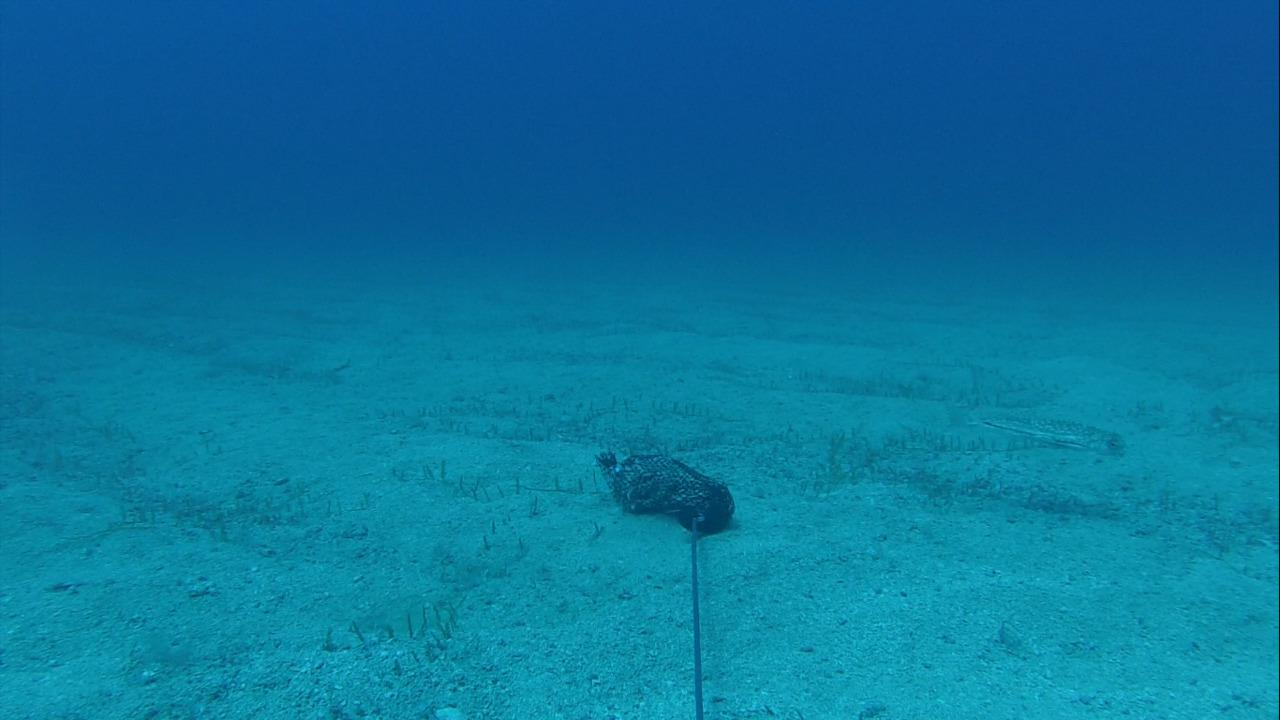dactylopterus: (962, 402, 1128, 461)
